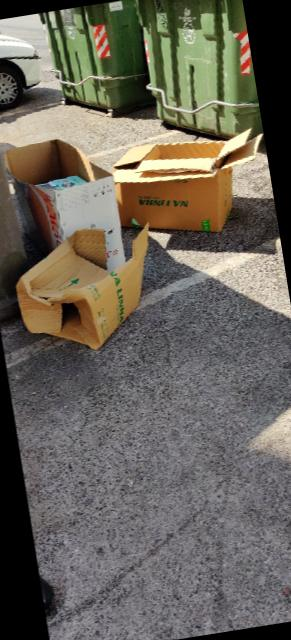cardboard paper: (15, 223, 147, 349), (4, 139, 123, 270), (112, 141, 245, 231)
